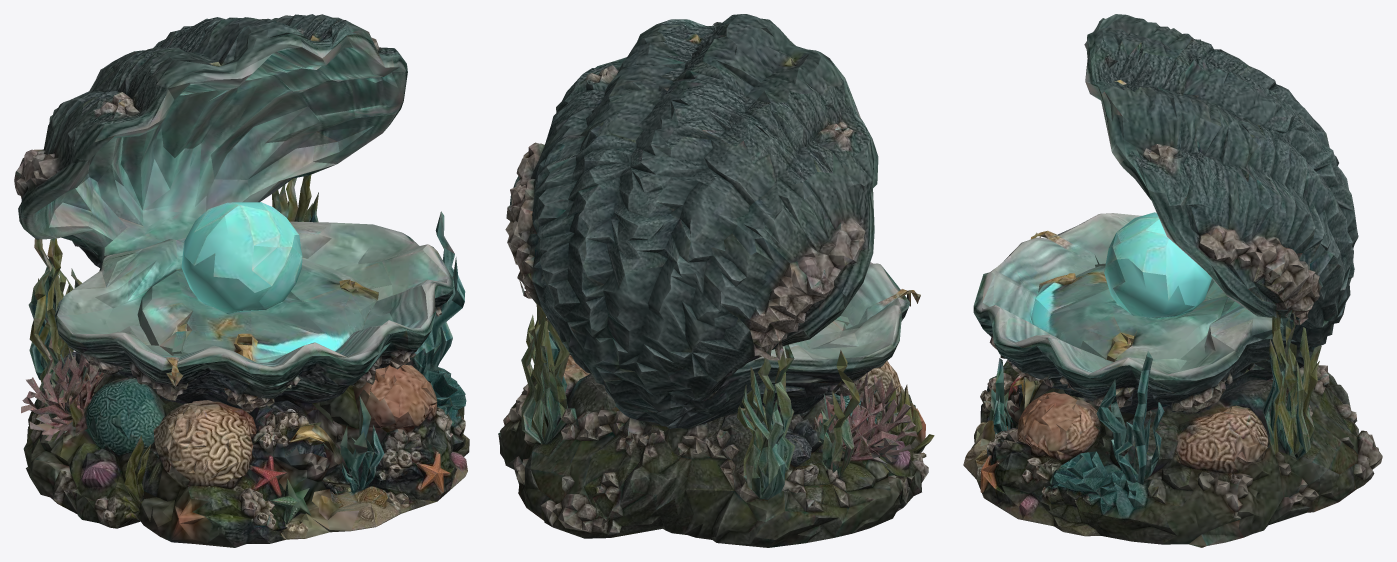
The model's file is model.opt.c.glb.
3 views of the same model, side by side, from view 1: azimuth 30°, elevation 25°; view 2: azimuth 150°, elevation 25°; view 3: azimuth 270°, elevation 25° (orthographic). The views are drawn at different scales.
Parts seen in each view (by area): view 1: Mesh_0; view 2: Mesh_0; view 3: Mesh_0.
Part boxes in pixels (x1,y1,x2,y2): Mesh_0: [14, 14, 469, 547]; Mesh_0: [498, 14, 934, 547]; Mesh_0: [963, 14, 1382, 547].
Bounding box in the file's own units: 1.87 × 1.9 × 1.72.
Materials: 1 (1 with a texture image).
